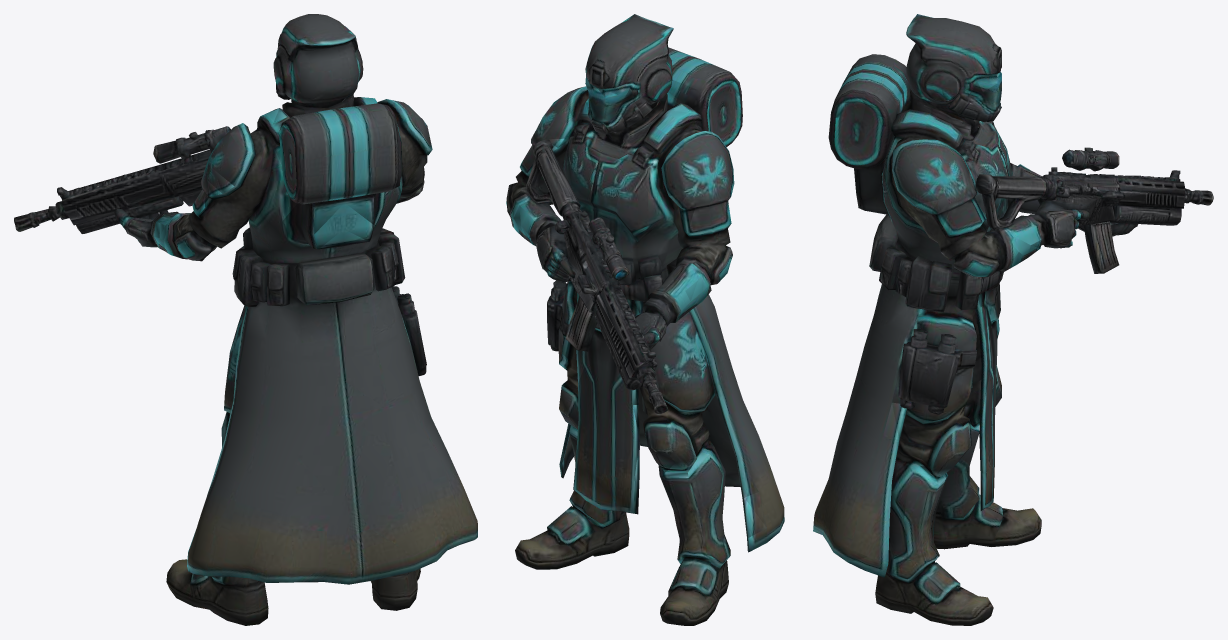
Rendered from clearance_engineer.glb.
3 renders of one model, left to right at view 1: azimuth 30°, elevation 25°; view 2: azimuth 150°, elevation 25°; view 3: azimuth 270°, elevation 25°, orthographic. The views are drawn at different scales.
Visible parts, largest first — view 1: Body, Trim; view 2: Body, Trim; view 3: Body, Trim.
Part boxes in pixels (bbox=[...]): Body: bbox=[14, 14, 477, 625]; Trim: bbox=[120, 26, 422, 581]; Body: bbox=[506, 14, 784, 625]; Trim: bbox=[506, 14, 766, 564]; Body: bbox=[813, 14, 1213, 625]; Trim: bbox=[834, 14, 1080, 577].
Bounding box in the file's own units: 0.9405 × 1.8 × 1.18.
2 materials, 2 textured.
